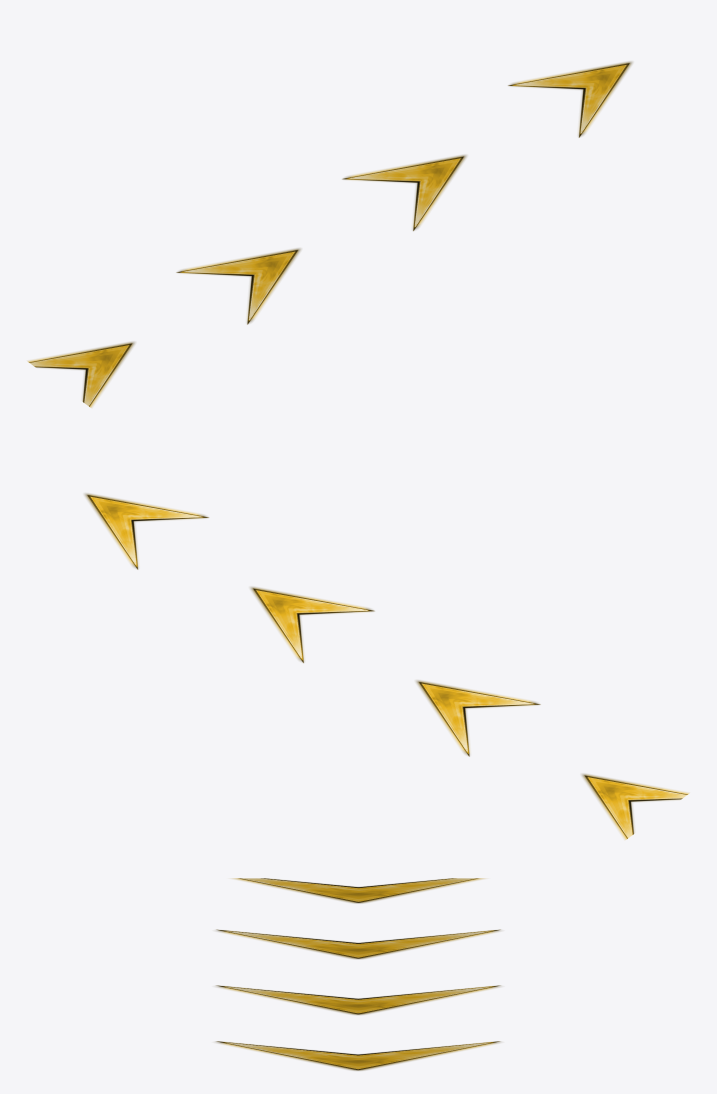
The model's file is boost_arrows.glb.
The picture shows the model from 3 angles, top to bottom: view 1: azimuth 30°, elevation 25°; view 2: azimuth 150°, elevation 25°; view 3: azimuth 270°, elevation 25°; orthographic projection. The views are drawn at different scales.
Parts seen in each view (by area): view 1: zipper.png__; view 2: zipper.png__; view 3: zipper.png__.
Part boxes in pixels (x1,y1,x2,y2): zipper.png__: (28, 61, 632, 407); zipper.png__: (85, 493, 688, 839); zipper.png__: (216, 878, 500, 1070).
Size of the model in its own units: 10.16 by 3.1 by 2.66.
1 material, 1 textured.
